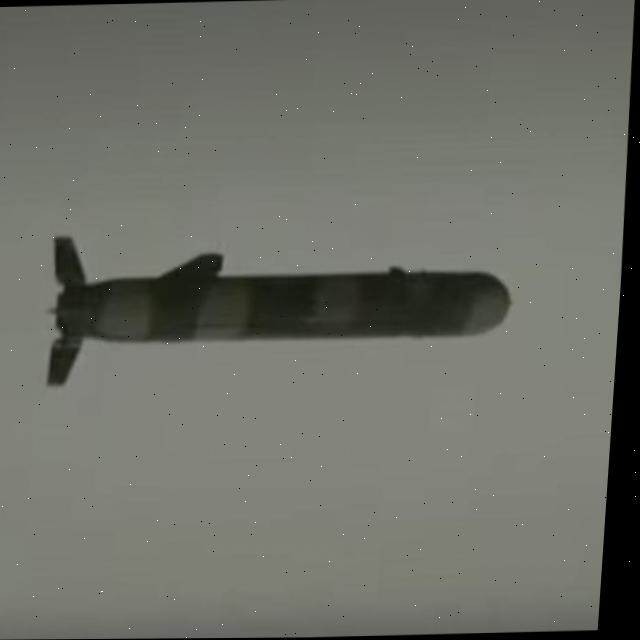missile: (43, 203, 522, 389)
